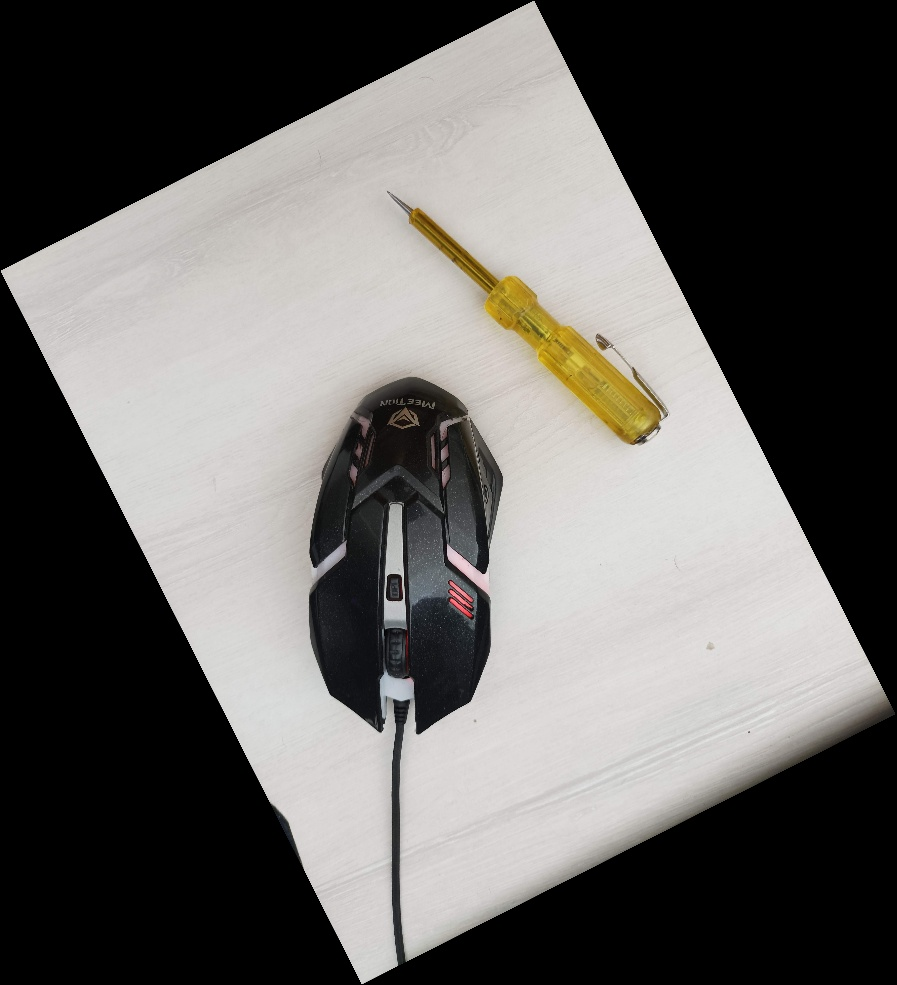mouse: (304, 366, 509, 738)
screwdriver: (382, 180, 678, 452)
